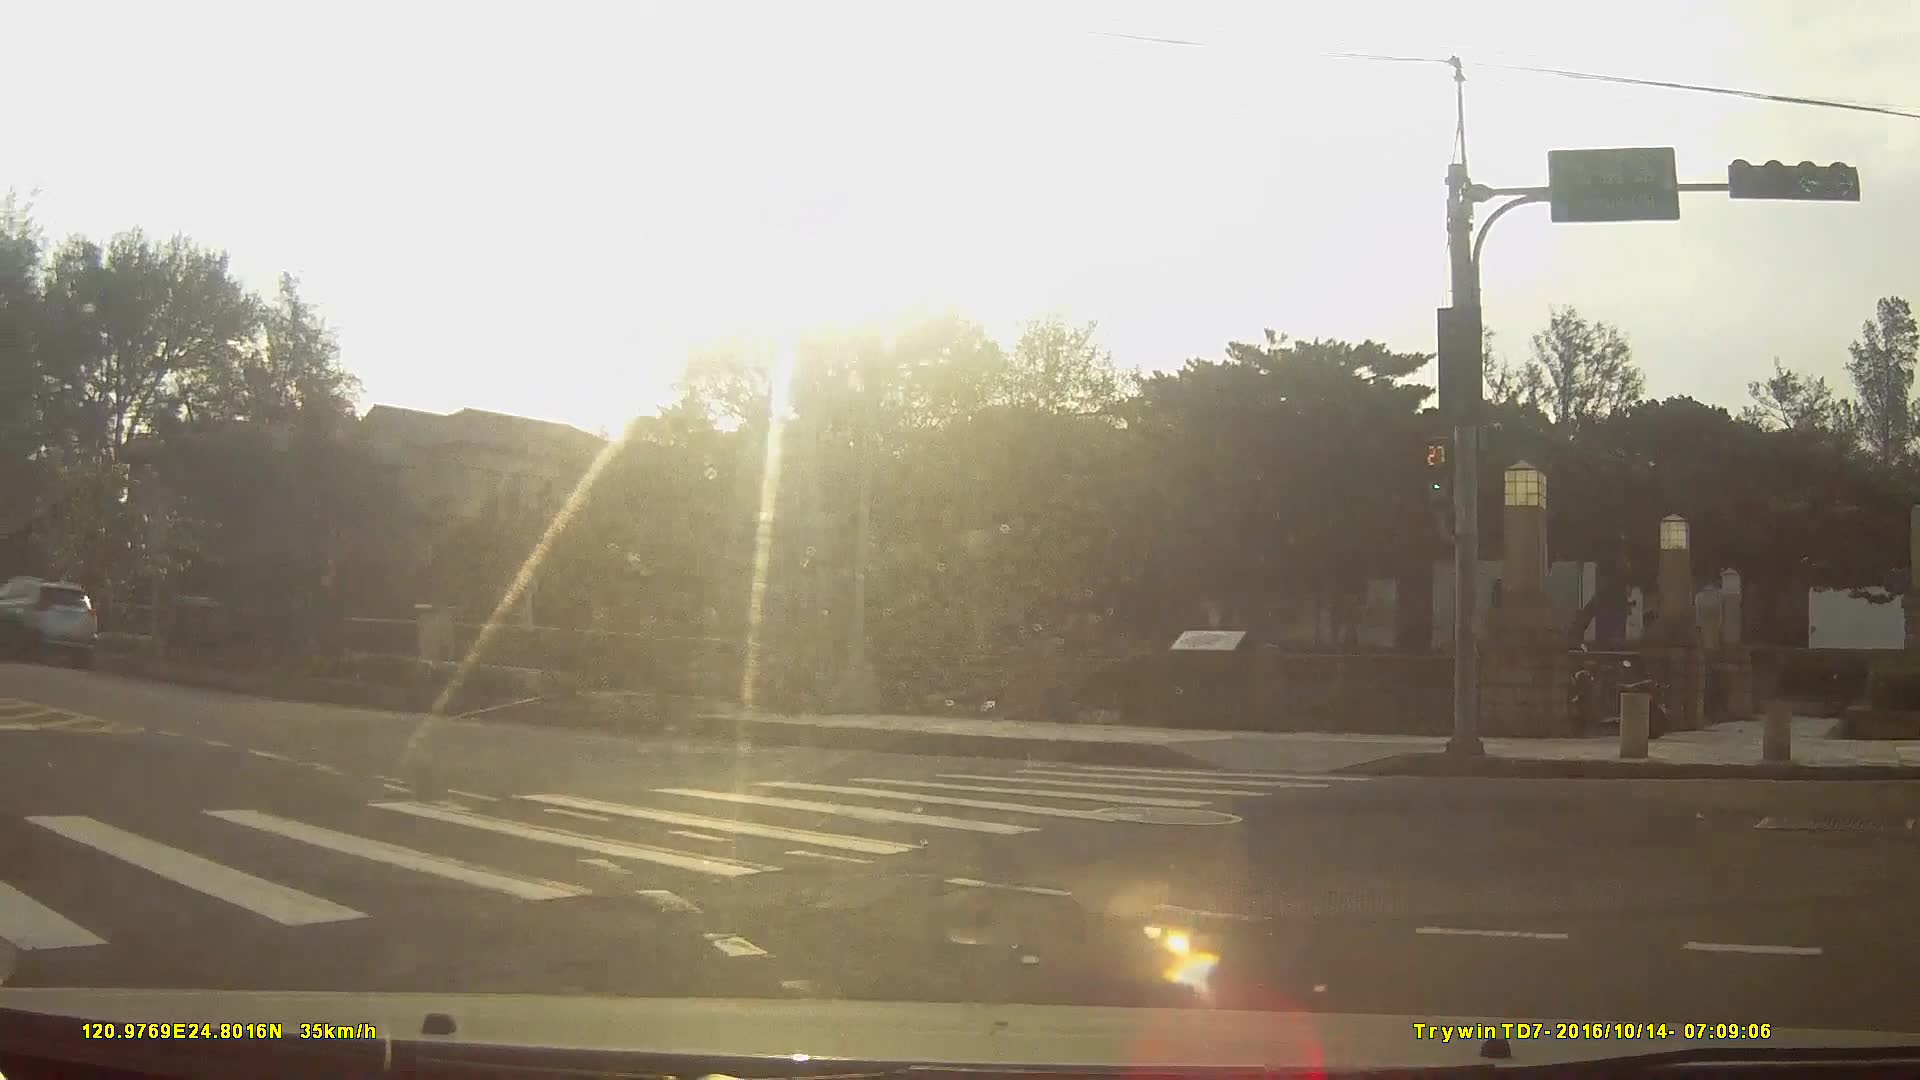vehicle: (0, 575, 98, 666)
